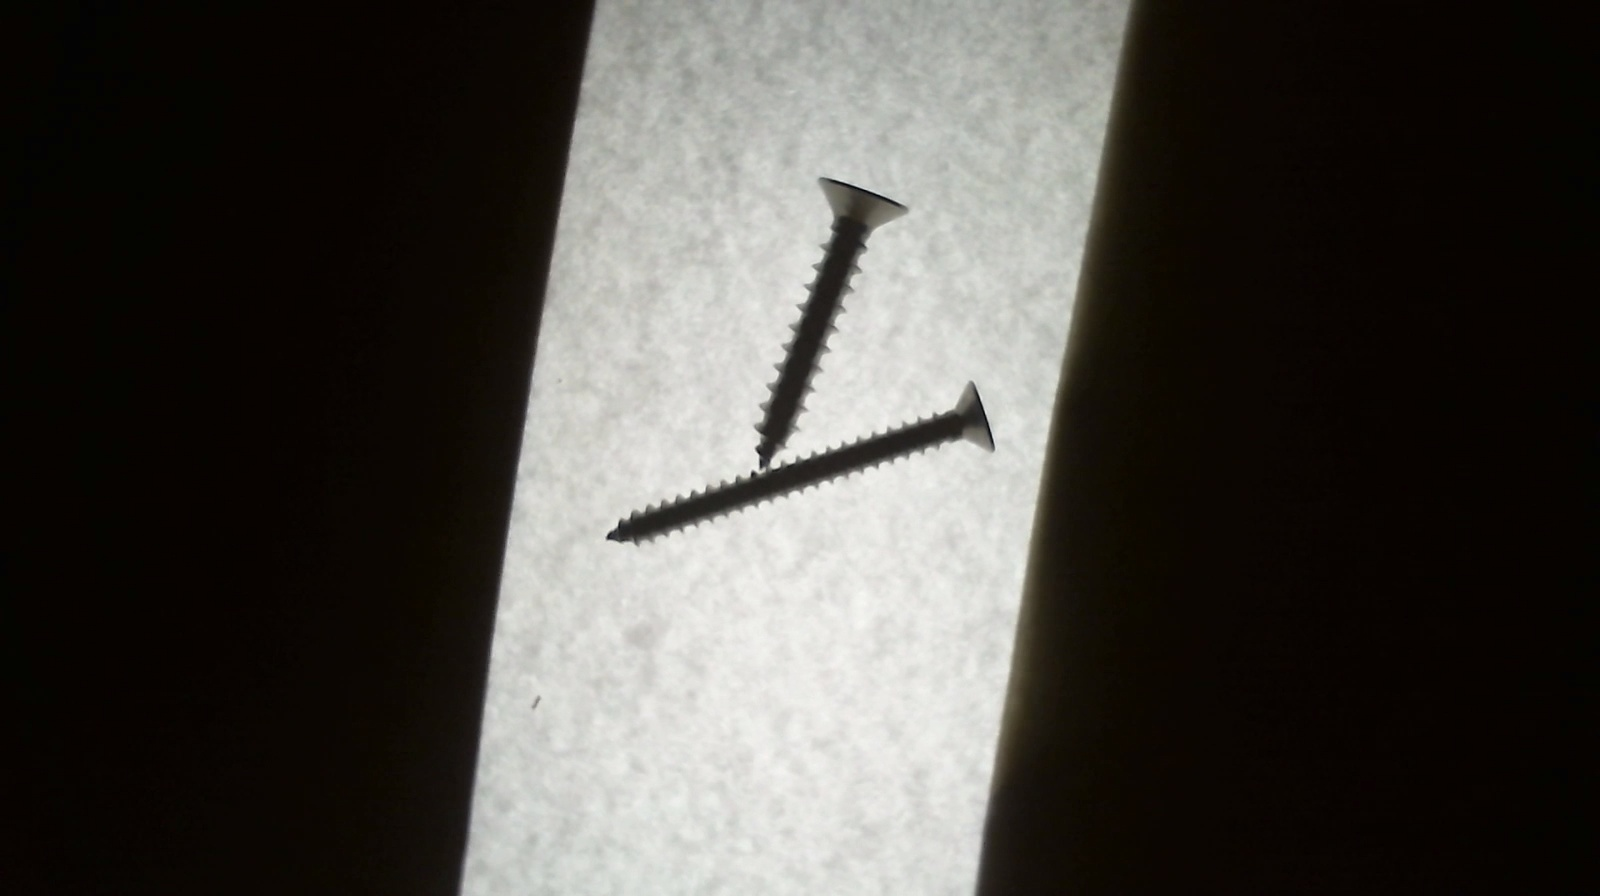S001: (749, 173, 914, 471)
S002: (605, 374, 1004, 546)
